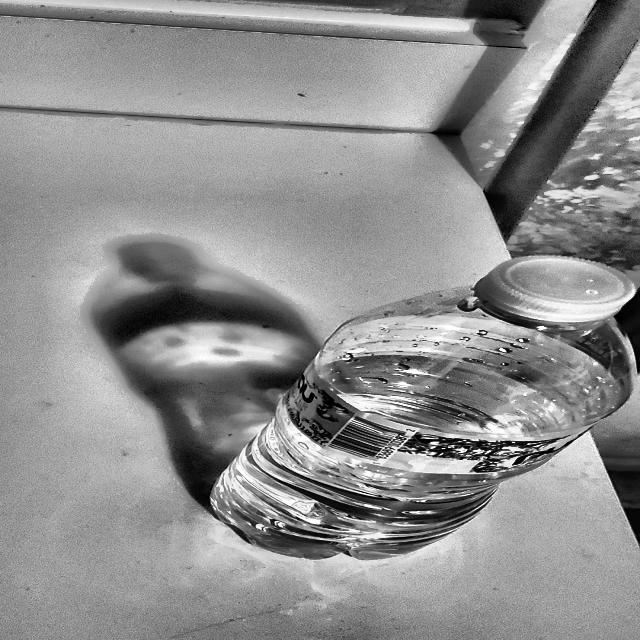waterbottle: (196, 249, 640, 568)
